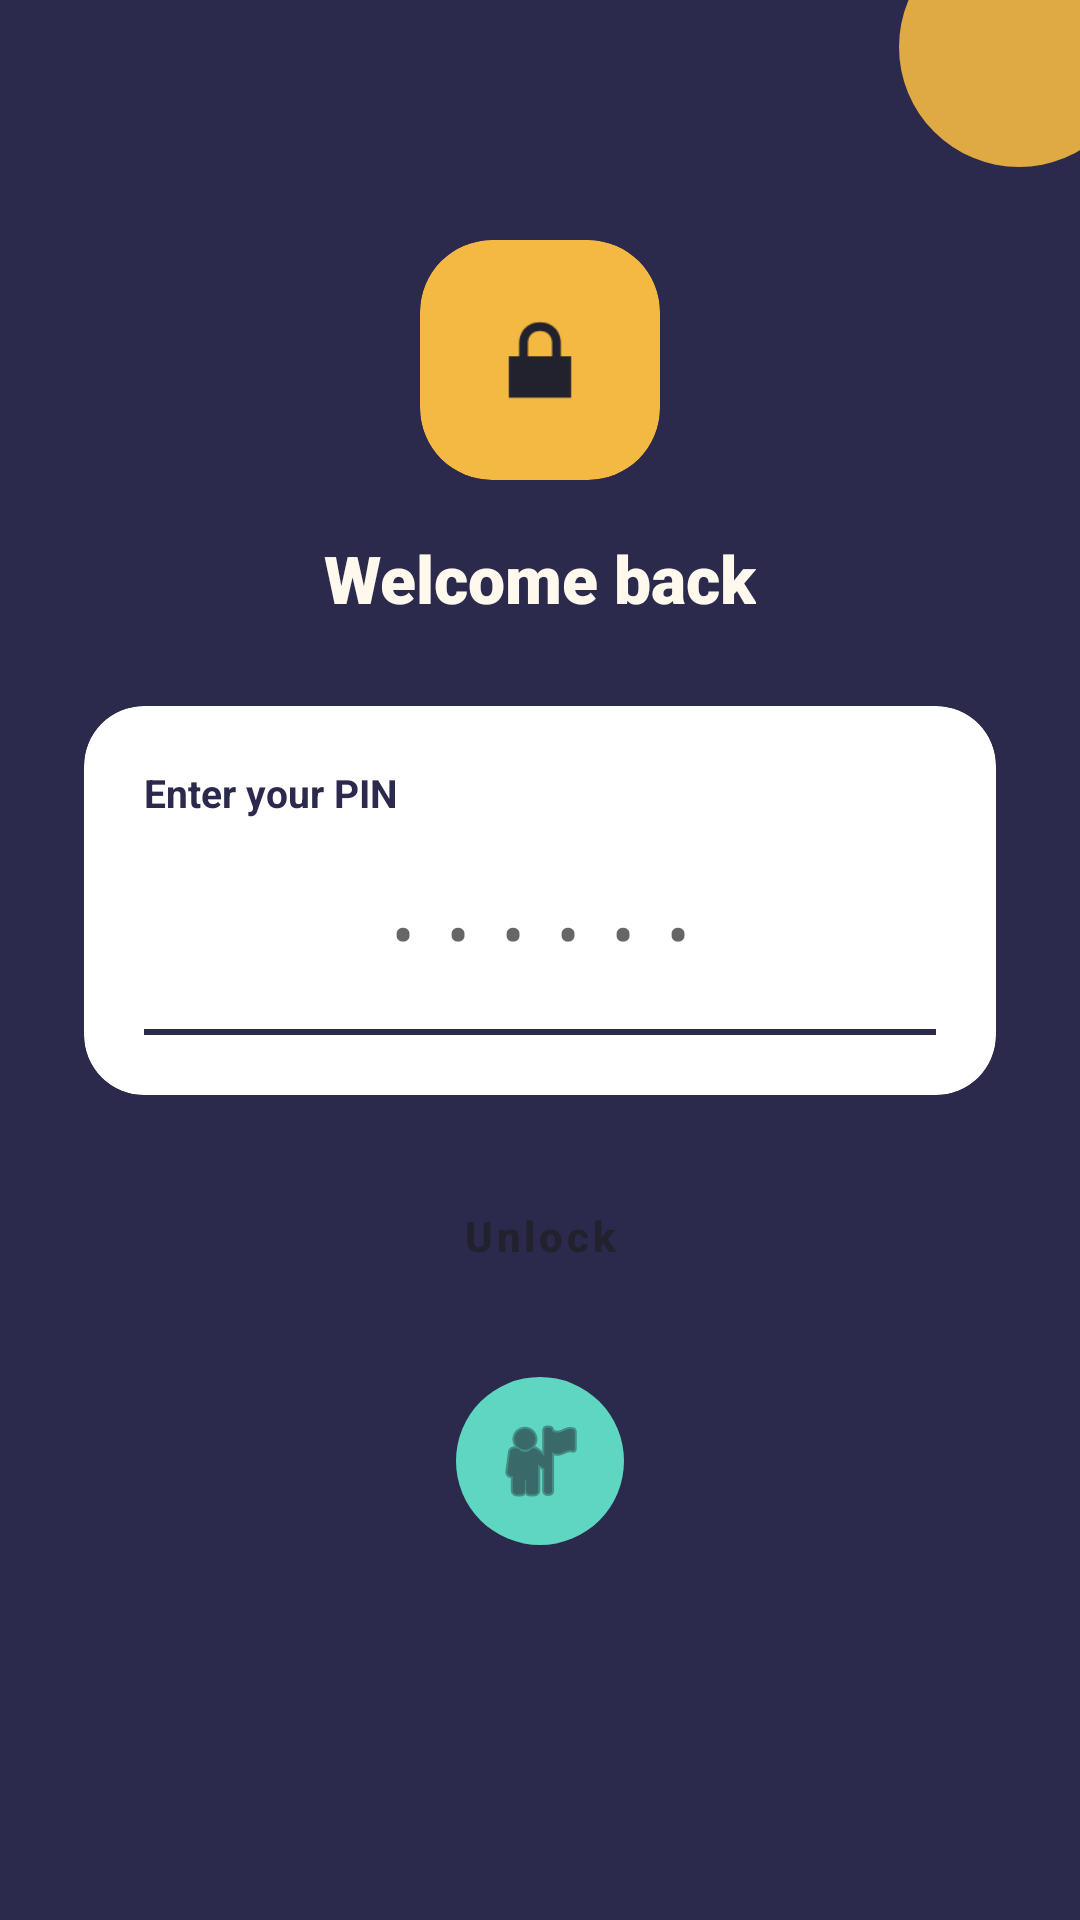

Icons on this 1080×1920 Android screen, each with the point to tap as point (x, y):
lock: point (540, 360)
